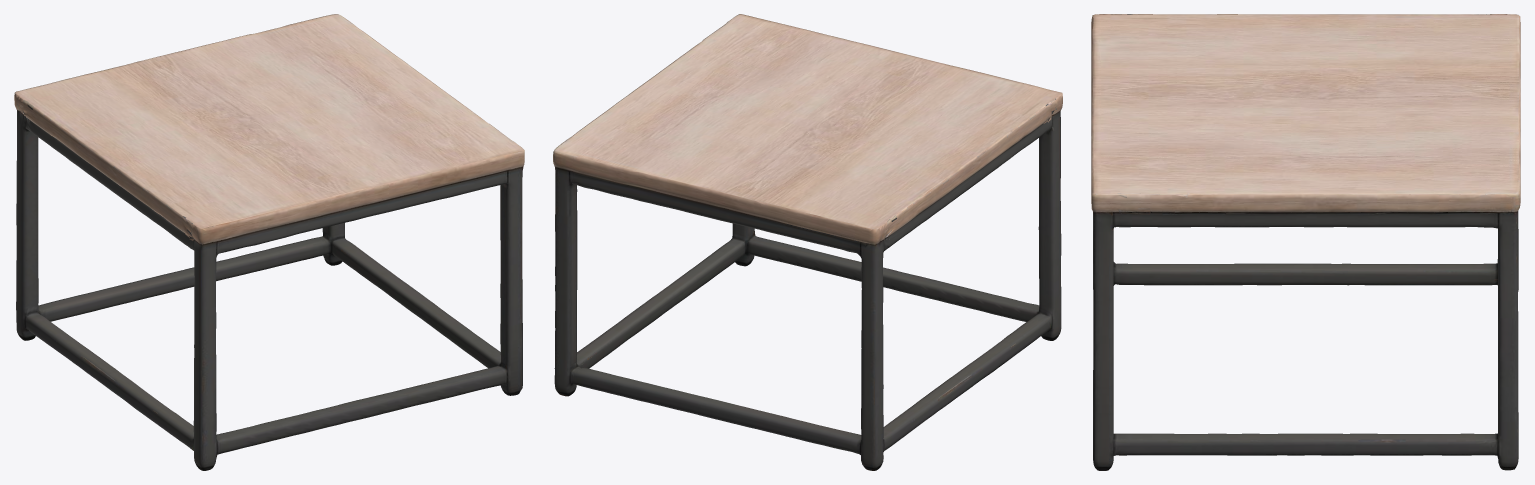
Rendered from desks1.glb.
The picture shows the model from 3 angles, left to right: view 1: azimuth 30°, elevation 25°; view 2: azimuth 150°, elevation 25°; view 3: azimuth 270°, elevation 25°; orthographic projection. The views are drawn at different scales.
Parts seen in each view (by area): view 1: tripo_node_66d1b431; view 2: tripo_node_66d1b431; view 3: tripo_node_66d1b431.
Boxes of the visible parts, bbox=[...] form: tripo_node_66d1b431: bbox=[14, 14, 524, 470]; tripo_node_66d1b431: bbox=[553, 14, 1062, 470]; tripo_node_66d1b431: bbox=[1091, 14, 1520, 470].
Size of the model in its own units: 0.4887 by 0.3512 by 0.4896.
1 material, 1 textured.
